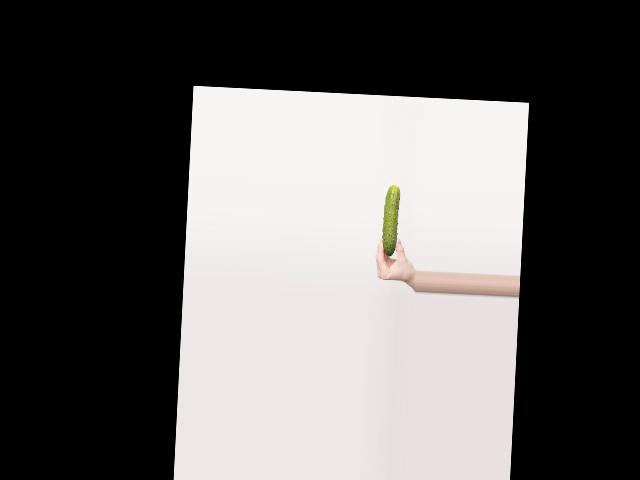cucumber: (381, 185, 399, 256)
